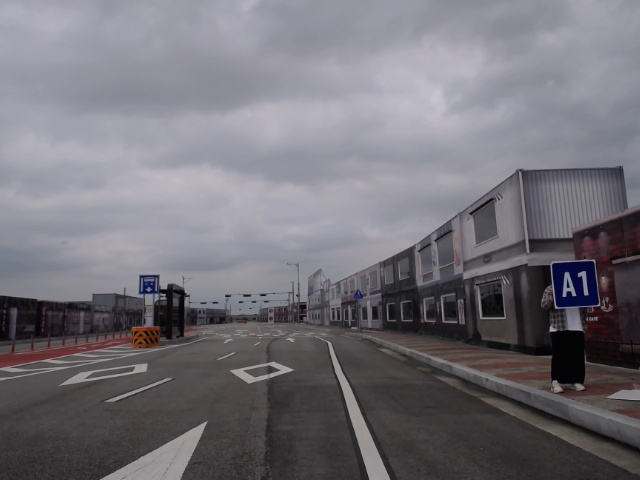delivery_a1: (551, 259, 600, 309)
